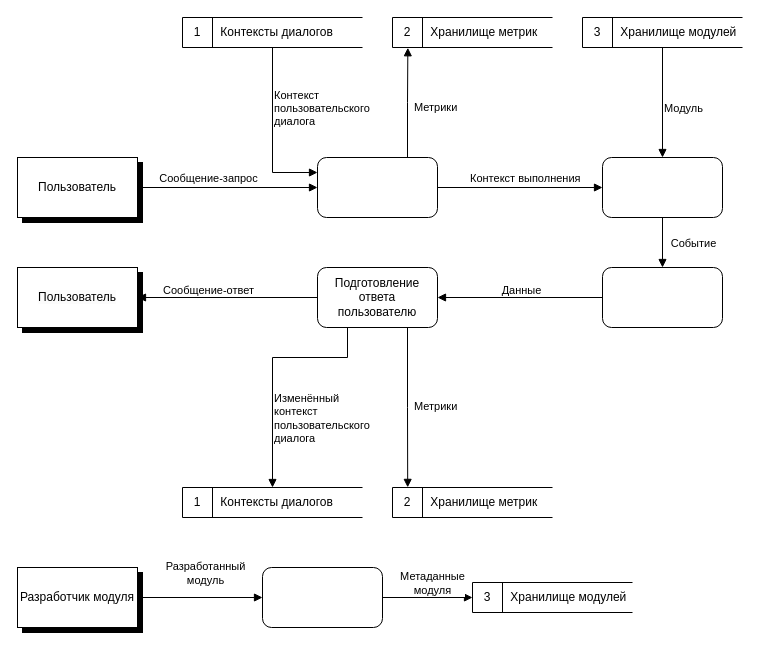
Image size: 760x655. Some labels were removed from this diagram. The box of each missing label's shape, as (x1, y1, x2, y2) in pixels:
Импорт модуля: (262, 566, 382, 628)
Обработка события в модуле: (602, 266, 722, 328)
Оповещение модулей о событии: (602, 156, 722, 218)
Подготовление данных для модуля: (316, 156, 438, 218)
